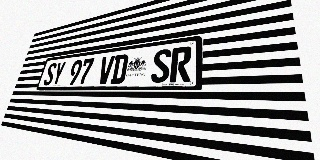7: (77, 58, 94, 85)
9: (67, 59, 83, 85)
D: (110, 54, 129, 84)
R: (169, 46, 192, 82)
S: (150, 48, 172, 83), (43, 63, 57, 86)
V: (97, 55, 115, 84)
Y: (51, 61, 66, 85)
